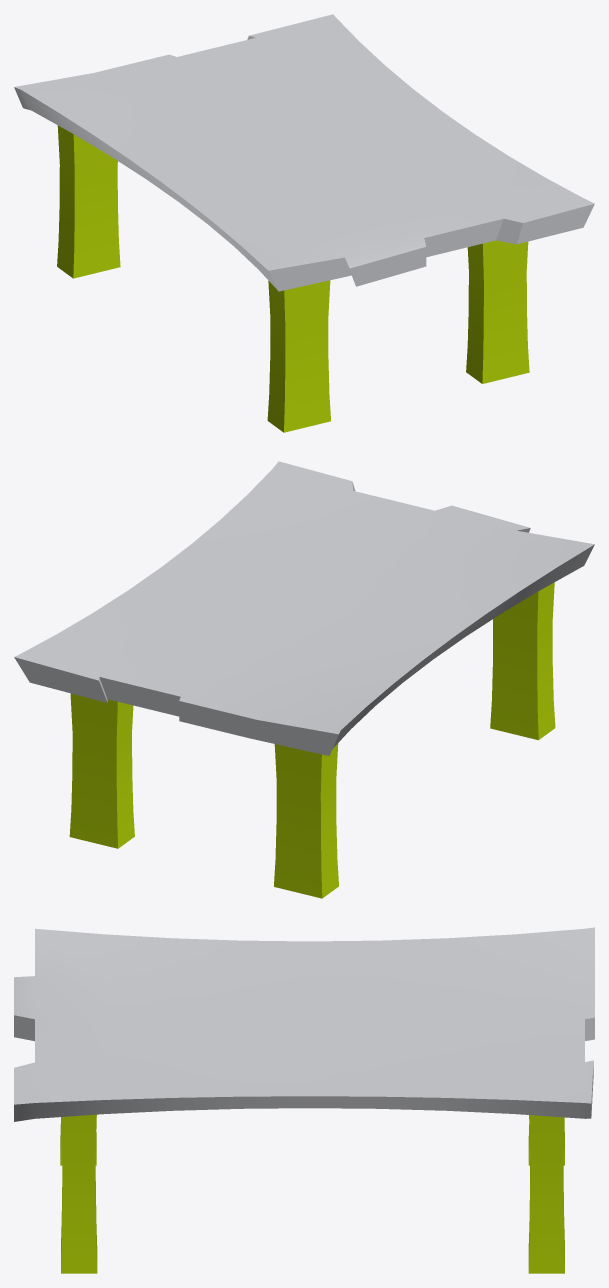
File: Mesa.fbx
3 renders of one model, top to bottom at view 1: azimuth 30°, elevation 25°; view 2: azimuth 150°, elevation 25°; view 3: azimuth 270°, elevation 25°, orthographic. The views are drawn at different scales.
Visible parts, largest first — view 1: Pata004.003; view 2: Pata004.003; view 3: Pata004.003.
Boxes of the visible parts, <box> form: Pata004.003: <box>14,14,594,432</box>; Pata004.003: <box>14,461,594,898</box>; Pata004.003: <box>14,927,594,1273</box>.
Bounding box in the file's own units: 191 × 101 × 270.
